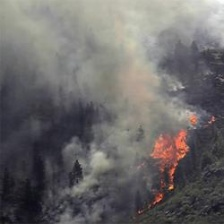fire: (146, 125, 199, 210)
smoke: (7, 4, 156, 216)
